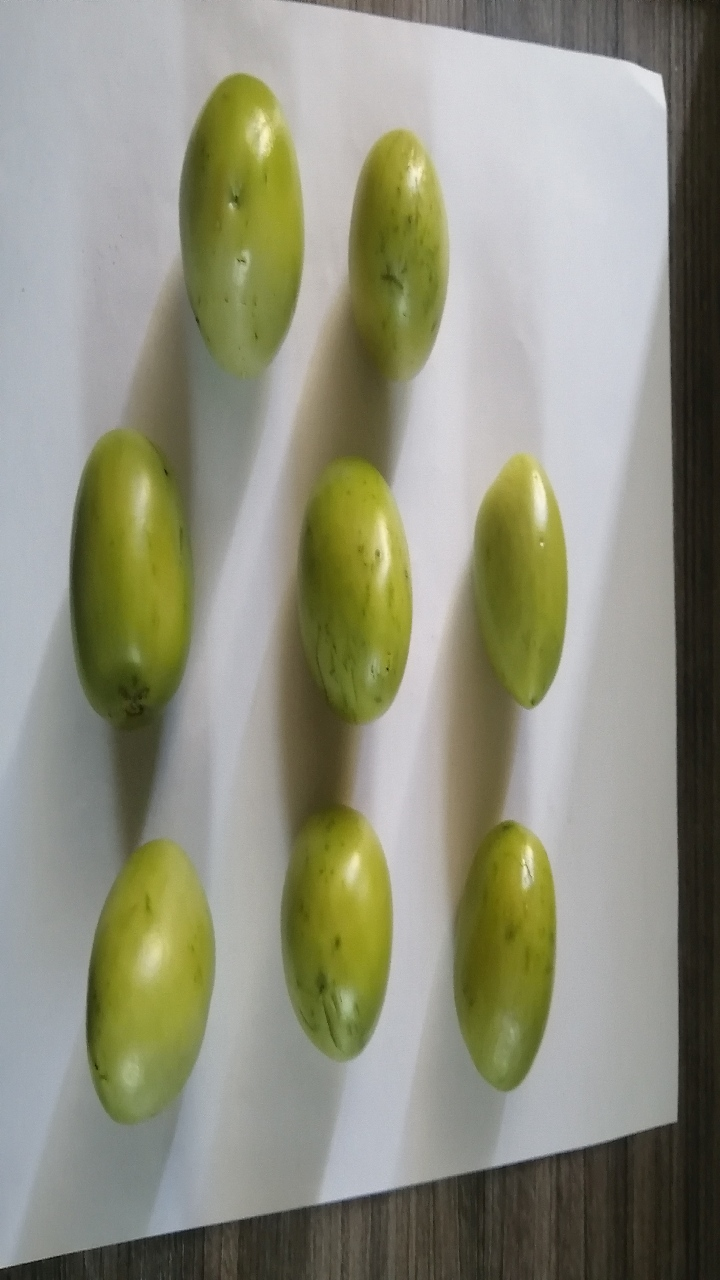tomateVerde: (71, 815, 234, 1155), (428, 797, 603, 1112), (51, 405, 209, 742), (168, 54, 323, 395), (260, 785, 417, 1095), (328, 85, 481, 403), (278, 437, 434, 740), (455, 437, 584, 739)
